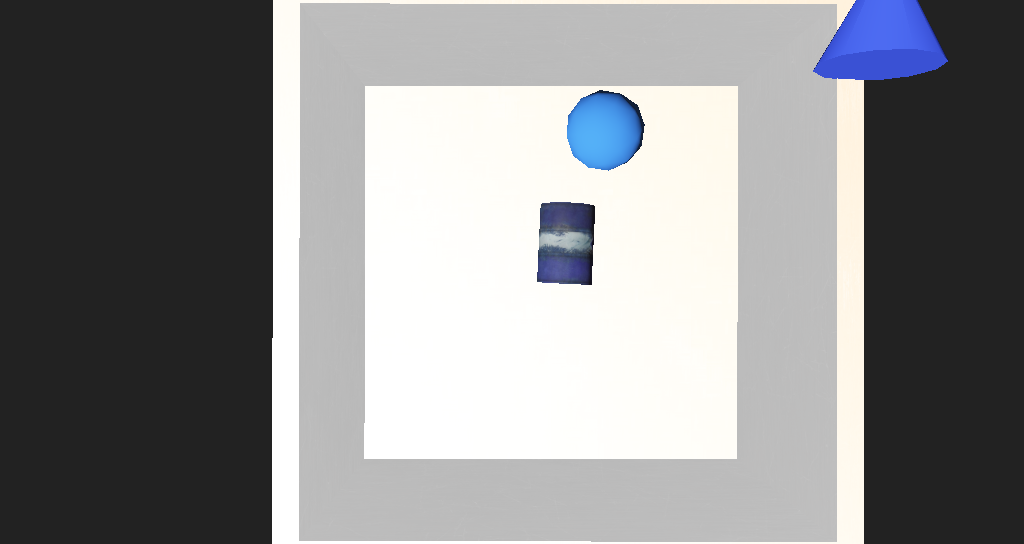cone: (495, 229, 542, 277)
cylinder: (684, 84, 798, 174)
sphere: (512, 169, 579, 212)
